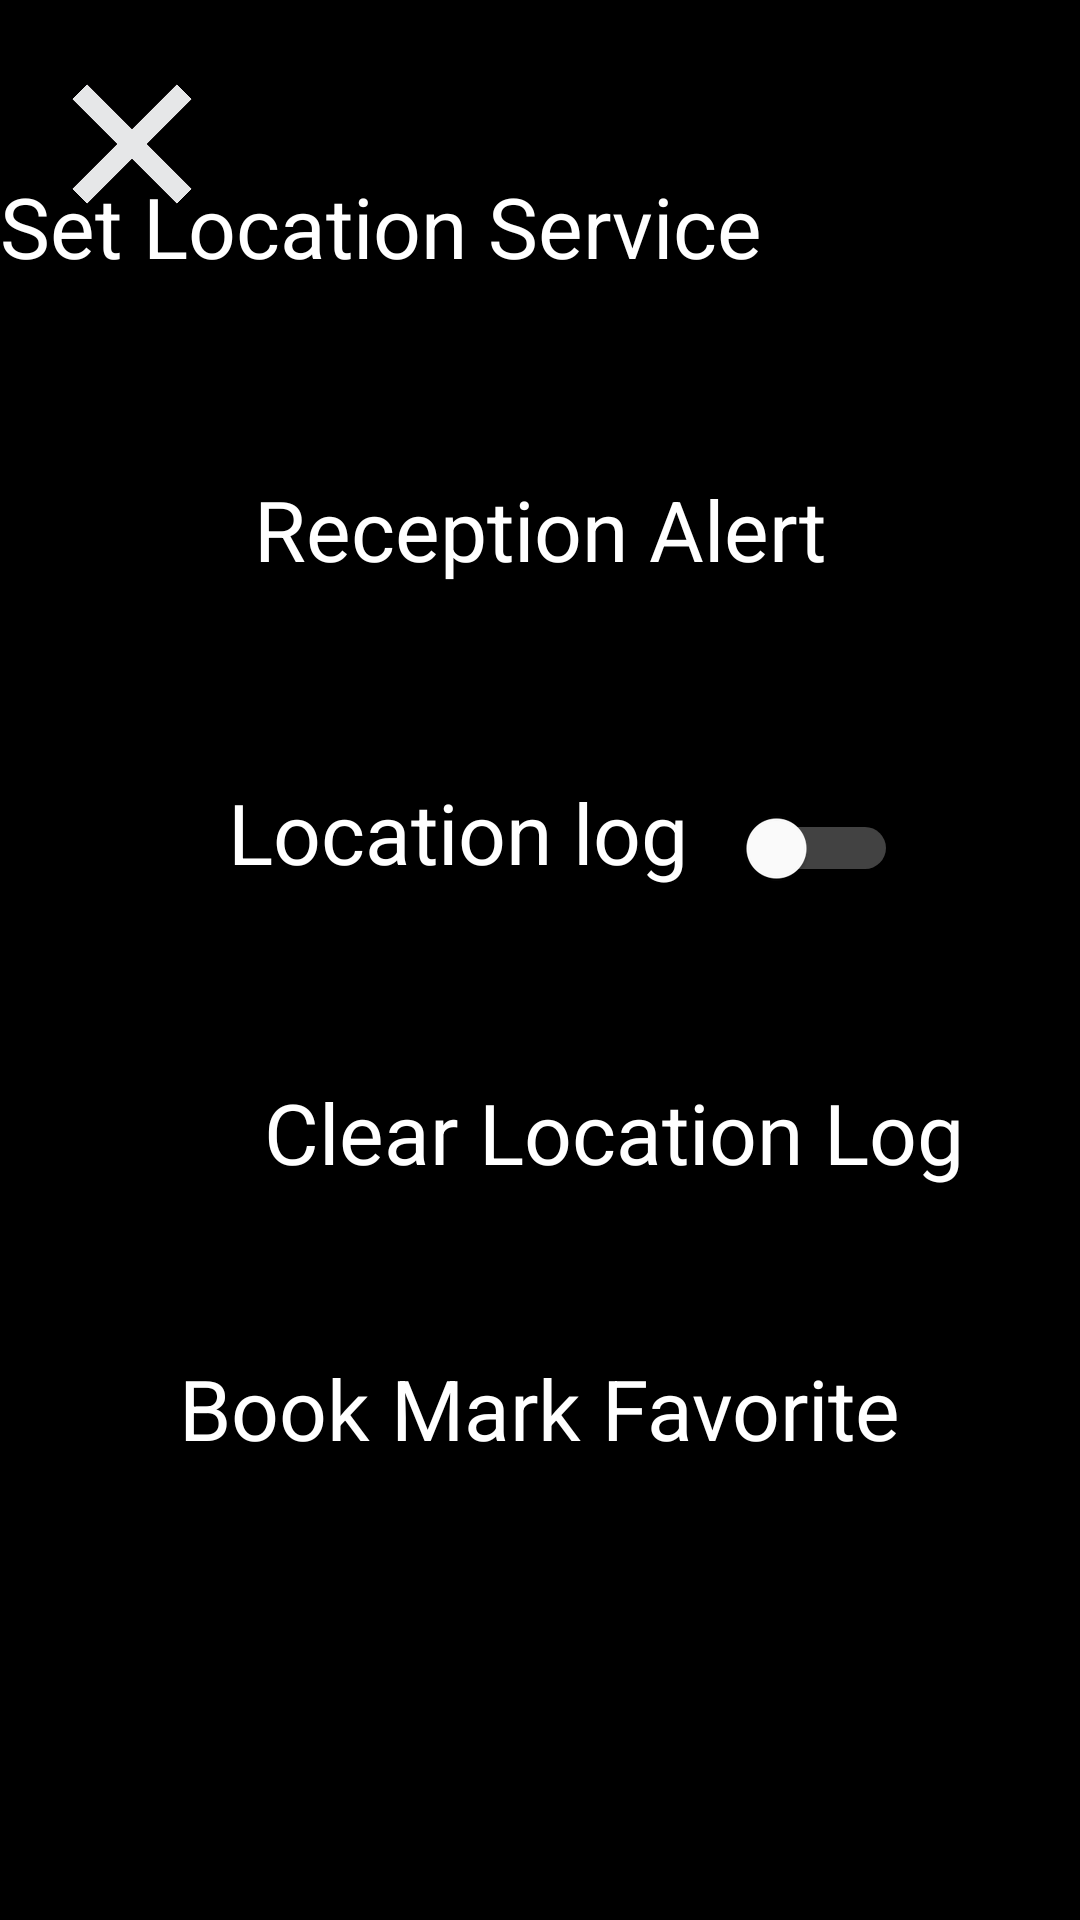

Icons on this 1080 × 1920 Android screen, each with the point to tap as point (x, y):
Close: point (132, 144)
